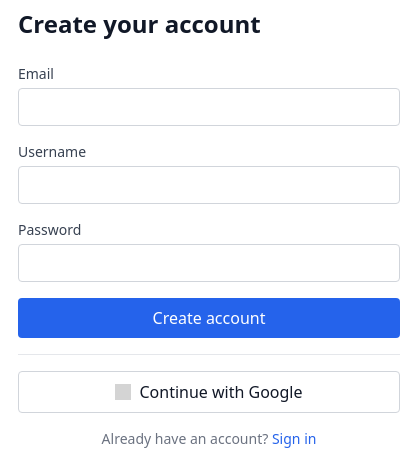
Scenario: Register page › shows email check screen after successful registration
Type "bob@test.com" into the field labelled "Email".
click(209, 106); type("bob@test.com")  # box [18,88,400,126]
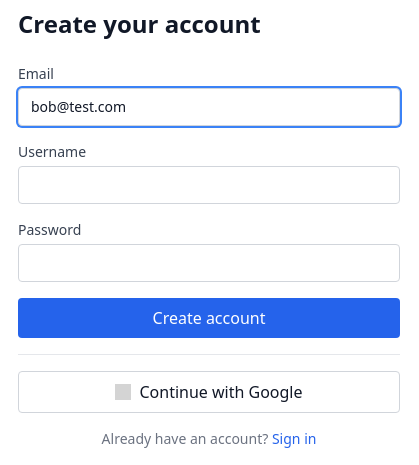
Type "bob" into the field labelled "Username".
click(209, 184); type("bob")  # box [18,166,400,204]
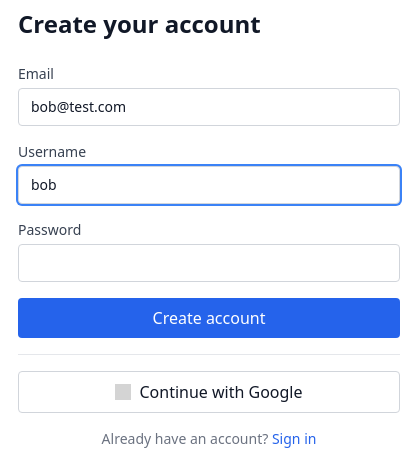
Type "password!" into the password field labelled "Password".
click(209, 262); type("password!")  # box [18,244,400,282]
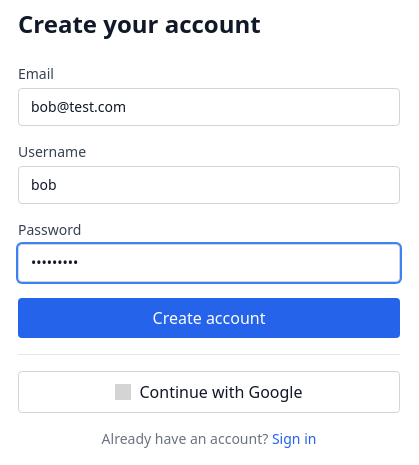
Click the button "Create account".
click(209, 318)  # box [18,298,400,338]
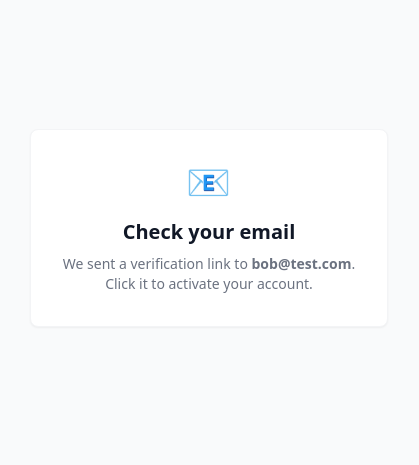
Now the heading "Check your email" is shown, box [123,218,295,245]
